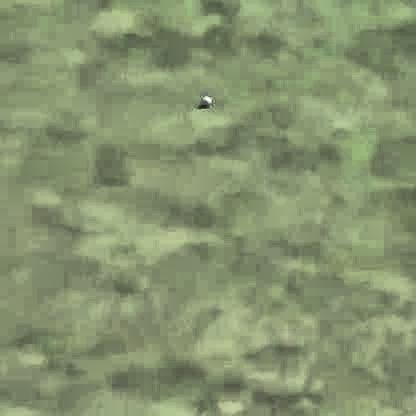golfball: (200, 95, 213, 105)
